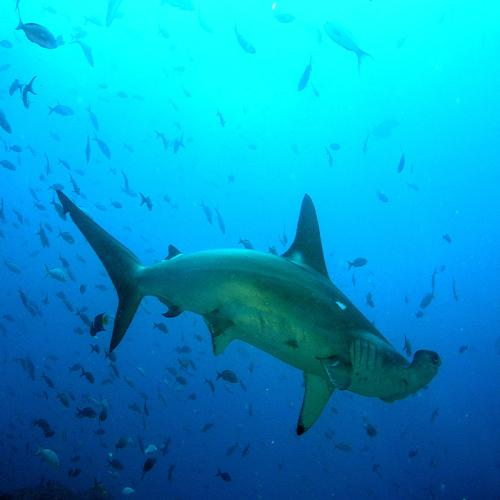shark-endangered: (55, 186, 441, 438)
